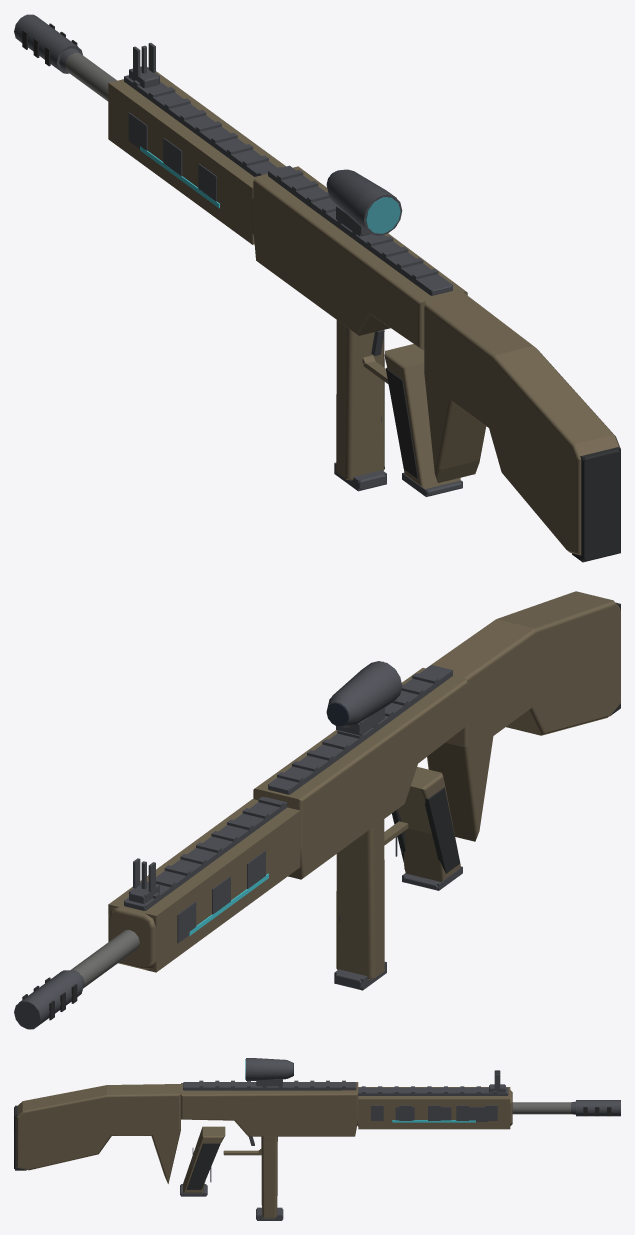
File: a_tempo.glb
The picture shows the model from 3 angles, top to bottom: view 1: azimuth 30°, elevation 25°; view 2: azimuth 150°, elevation 25°; view 3: azimuth 270°, elevation 25°; orthographic projection. The views are drawn at different scales.
Parts seen in each view (by area): view 1: L0, L1; view 2: L0, L1; view 3: L0, L1.
Part boxes in pixels (bbox=[...]): L0: bbox=[14, 14, 620, 561]; L1: bbox=[15, 15, 620, 562]; L0: bbox=[14, 591, 620, 1029]; L1: bbox=[14, 603, 620, 1029]; L0: bbox=[14, 1058, 620, 1219]; L1: bbox=[15, 1059, 620, 1220].
Bounding box in the file's own units: 0.0481 × 0.276 × 0.9588.
